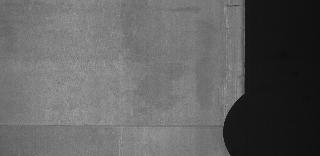welding line: (2, 122, 232, 132)
